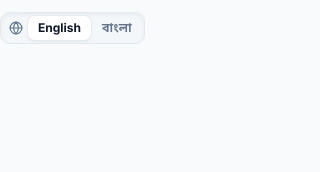
Test: Bilingual Internationalization (i18n) System › LanguageToggle Component Accessibility › switches to Bangla when clicking the Bangla button
The width and height of the screenshot is (320, 172).
What coordinates should you click on to do the following:
click the button named "ইন্টারফেস ভাষা বাংলায় পরিবর্তন করুন"
I would click on:
 (117, 28)
Its box is x1=92 y1=16 x2=142 y2=40.
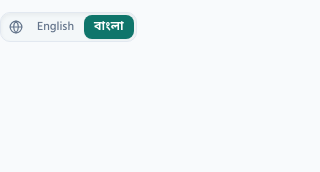
Expected: the button named "ইন্টারফেস ভাষা বাংলায় পরিবর্তন করুন" is pressed, x1=84 y1=15 x2=134 y2=39
